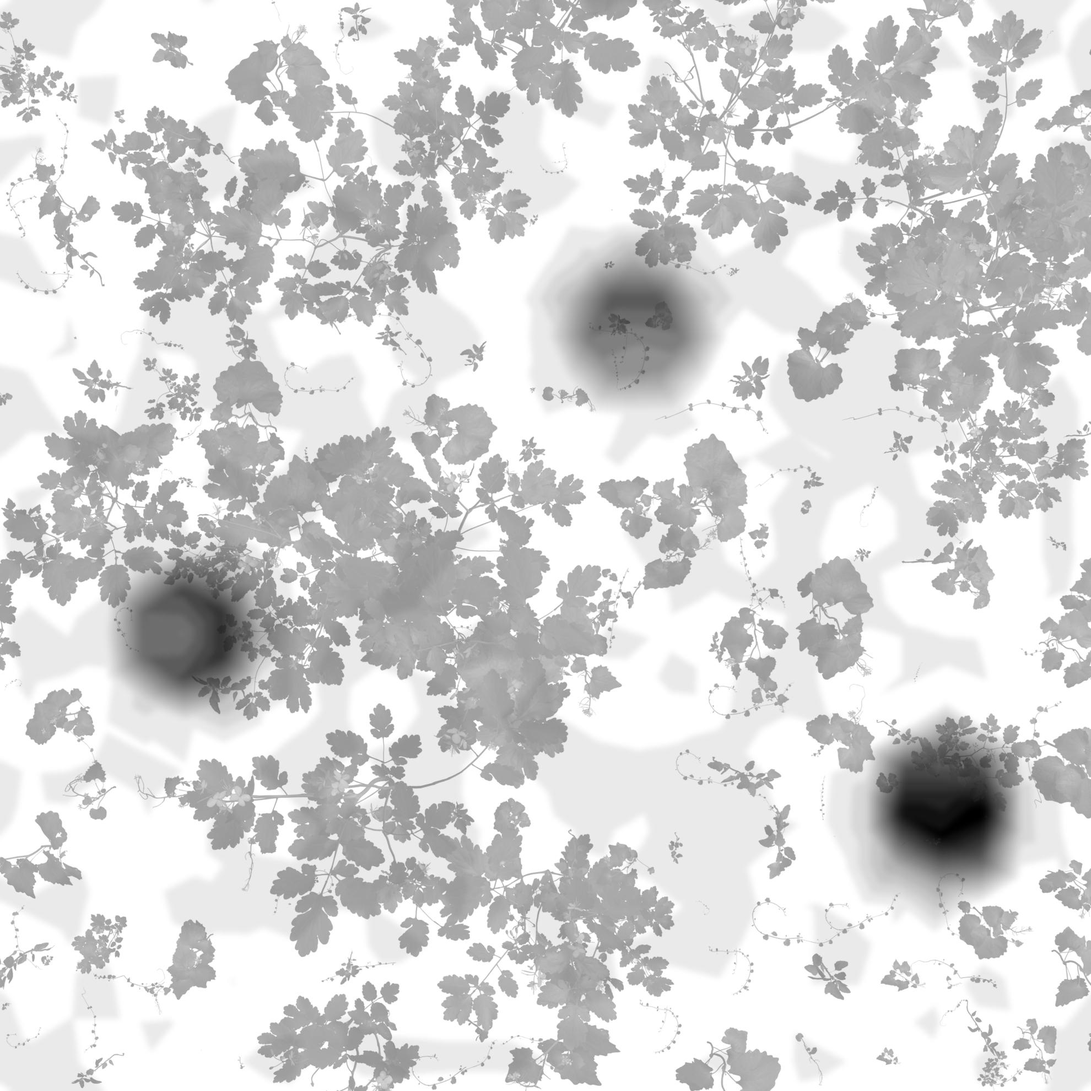landmine: (118, 543, 284, 718), (868, 729, 1031, 885), (564, 251, 700, 383)
